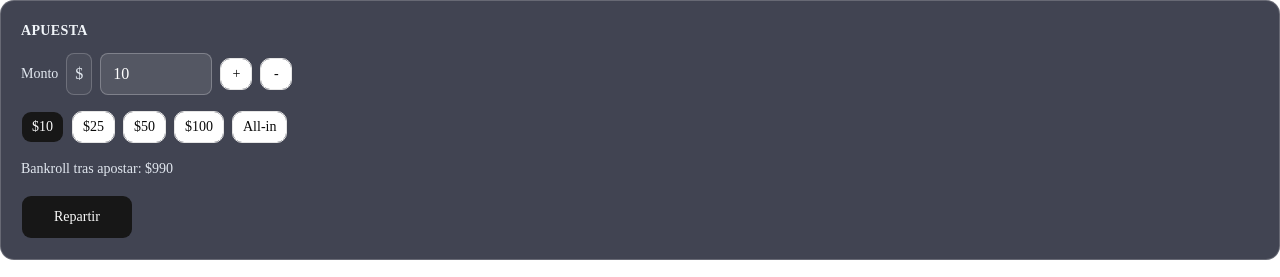
Scenario: BetSelector › shows bankroll preview after current bet
Replace the text in the field with "25" at {"x": 156, "y": 74}, box top-left (100, 53), bottom-right (212, 95)
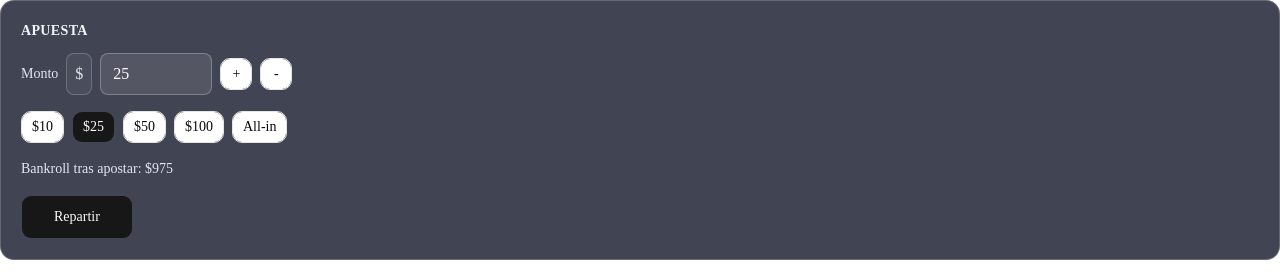
Result: the text "Bankroll tras apostar: $975" is shown at top-left (21, 161), bottom-right (173, 176)
